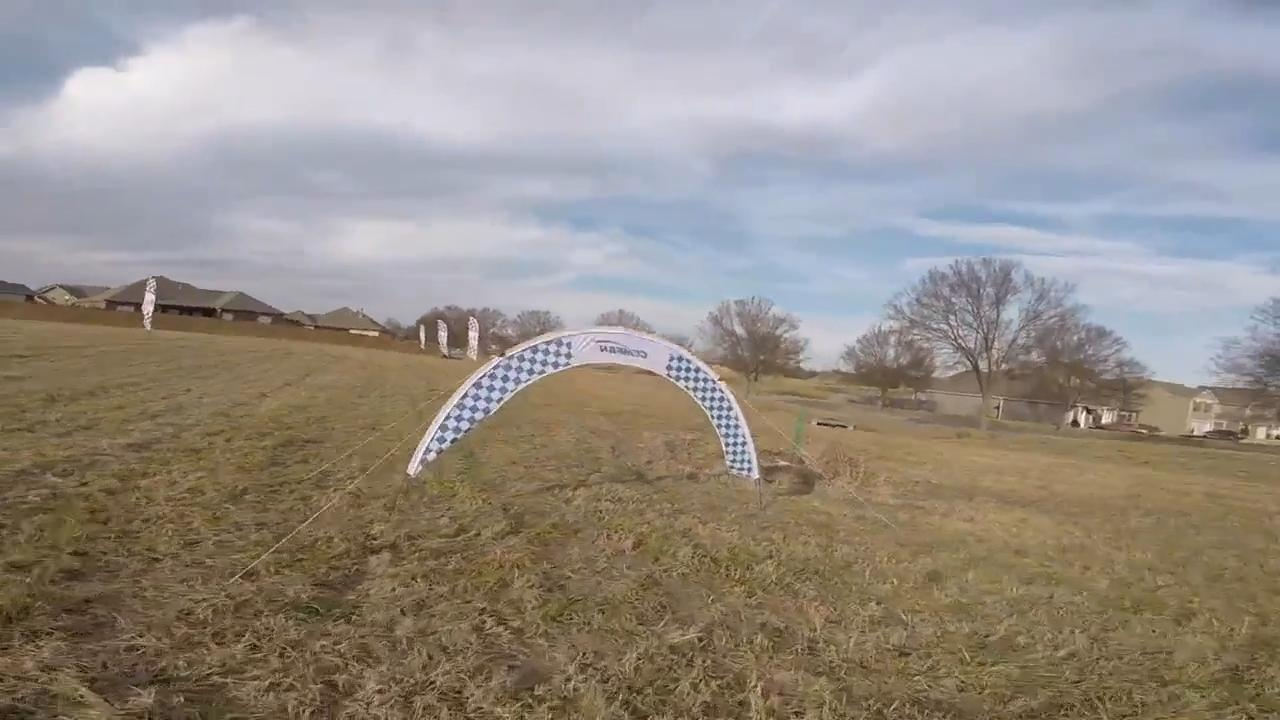gate: (402, 323, 764, 479)
